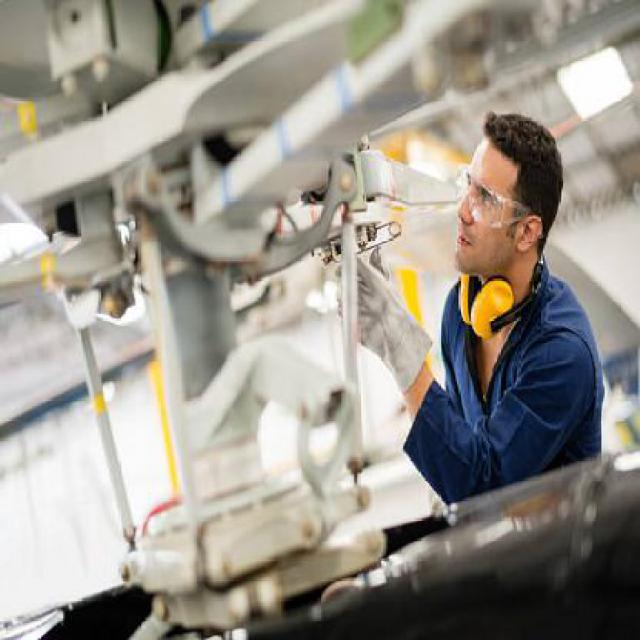glass: (449, 150, 523, 232)
head: (449, 100, 569, 283)
person: (375, 92, 624, 496)
